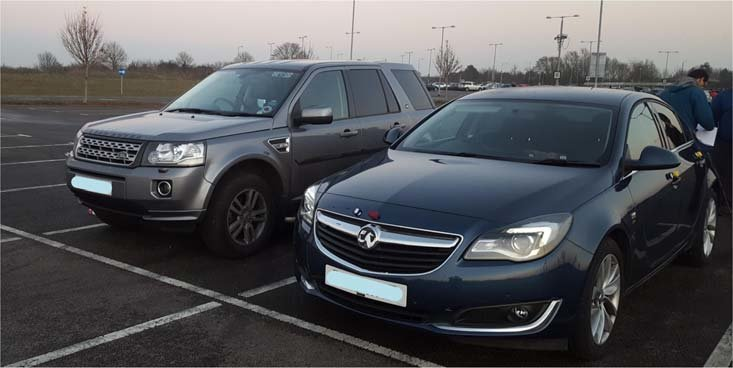car: (301, 83, 718, 343), (64, 54, 428, 230)
